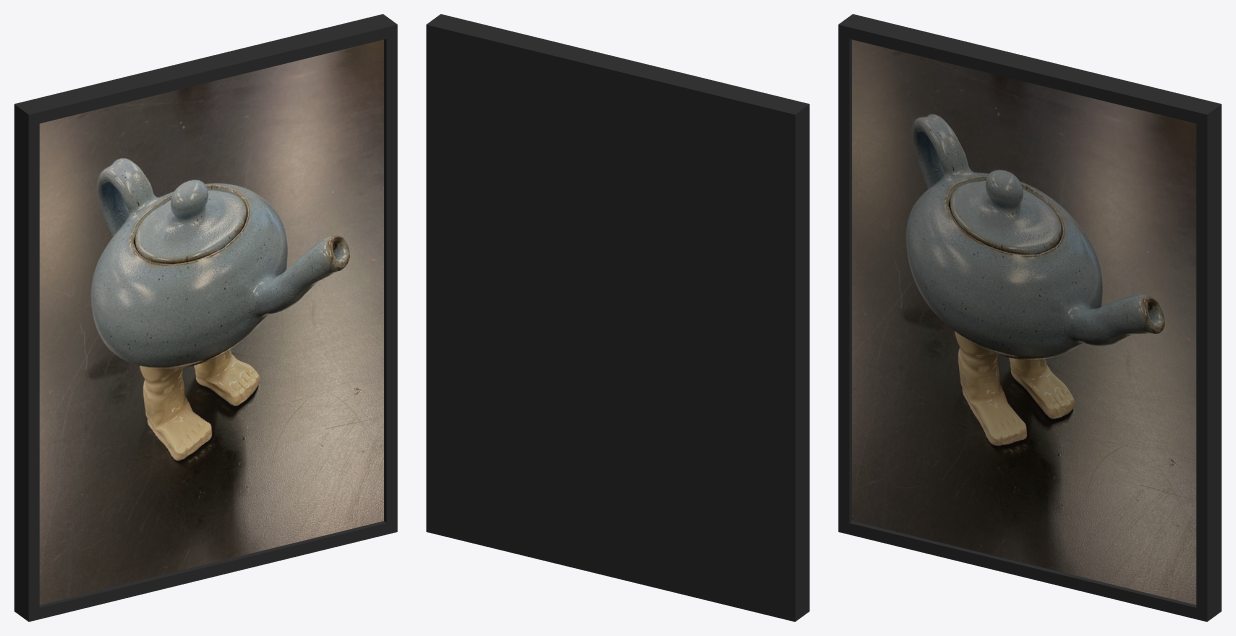
The model's file is ART26_IMG_3037.fbx.
3 views of the same model, side by side, from view 1: azimuth 30°, elevation 25°; view 2: azimuth 150°, elevation 25°; view 3: azimuth 330°, elevation 25° (orthographic).
Visible parts, largest first — view 1: ART26_IMG_3037; view 2: ART26_IMG_3037; view 3: ART26_IMG_3037.
Part boxes in pixels (bbox=[...]): ART26_IMG_3037: bbox=[14, 14, 397, 621]; ART26_IMG_3037: bbox=[426, 14, 809, 621]; ART26_IMG_3037: bbox=[838, 14, 1221, 621].
Bounding box in the file's own units: 83.75 × 5.75 × 110.
2 materials, 1 textured.
